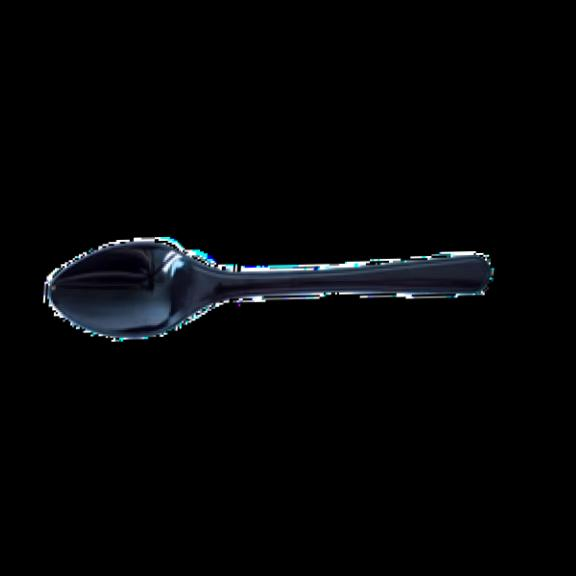Plastik: (48, 238, 490, 338)
